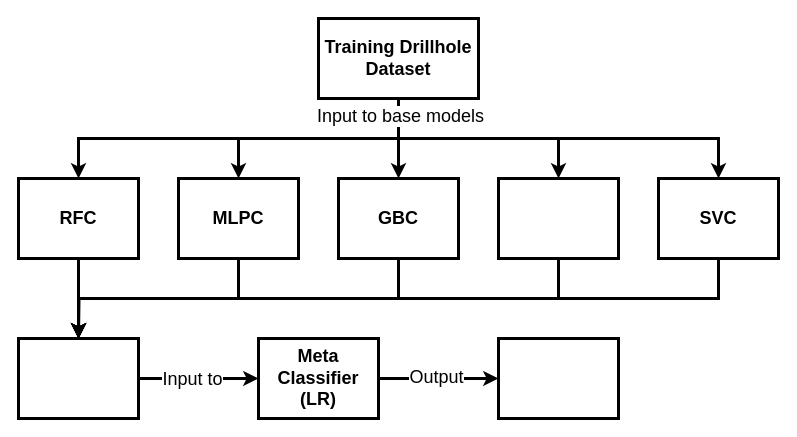
Some shapes in this 797 by 437 pixel diagram are drawn without their labels. The centre of each missing label's shape, as x and y in pixels:
"Domains Prediction" goes at pixel 78 378.
"Final Domains Prediction" goes at pixel 558 378.
"LR" goes at pixel 558 218.
